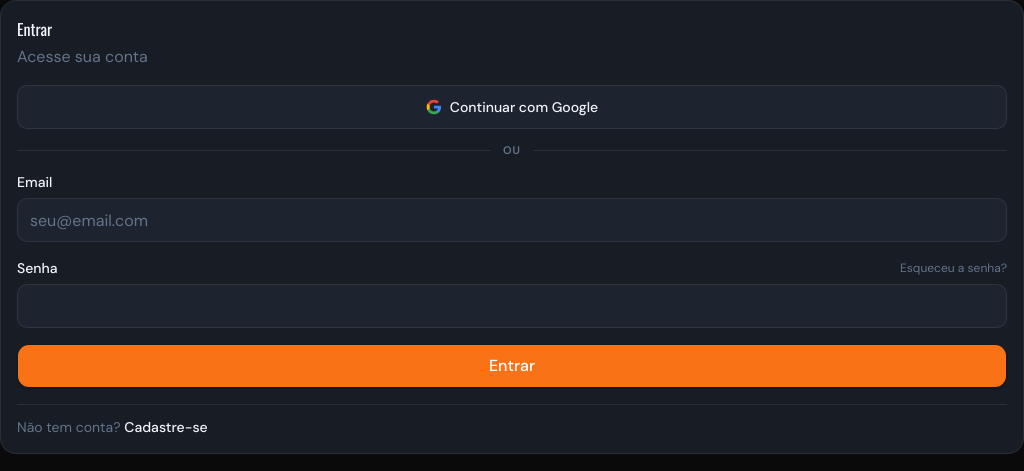
Test case: LoginForm › disables submit button with spinner while request is pending
Type "user@test.com" into the field labelled "Email" at {"x": 512, "y": 220}, box [17, 198, 1007, 242]
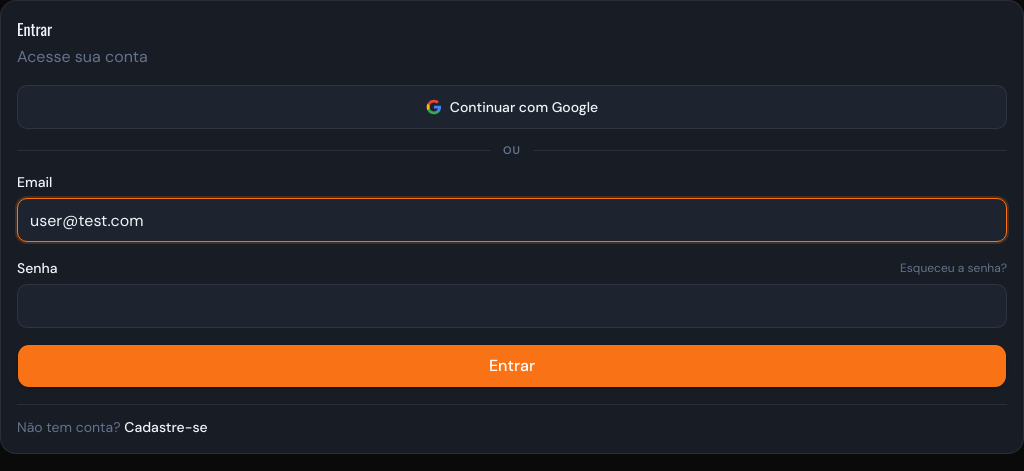
Type "password123" into the password field labelled "Senha" at {"x": 512, "y": 306}, box [17, 284, 1007, 328]
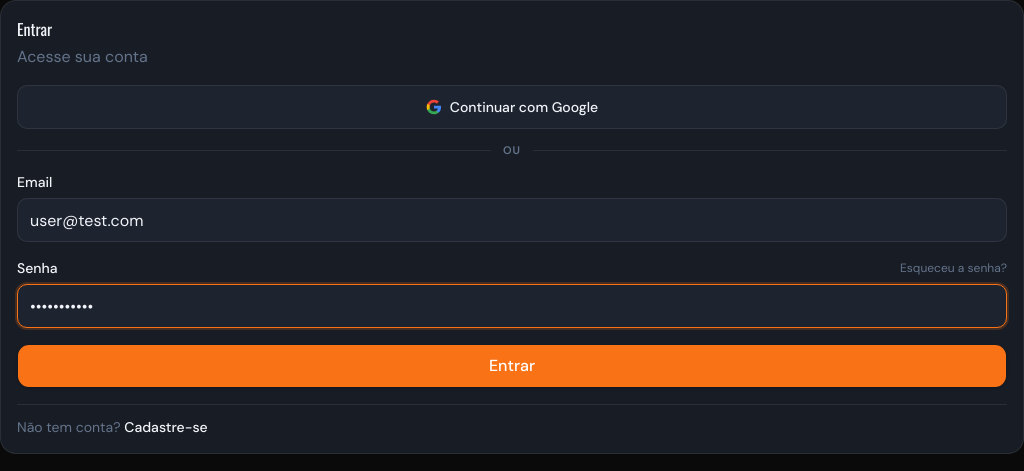
Click the button "Entrar" at {"x": 512, "y": 366}, box [17, 344, 1007, 388]
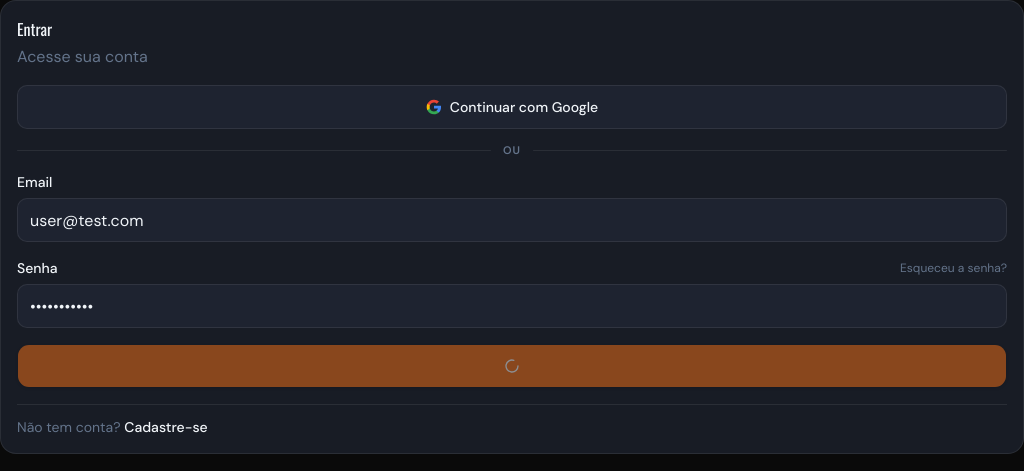
Expected: the button named "entrar" is disabled, [17, 344, 1007, 388]
